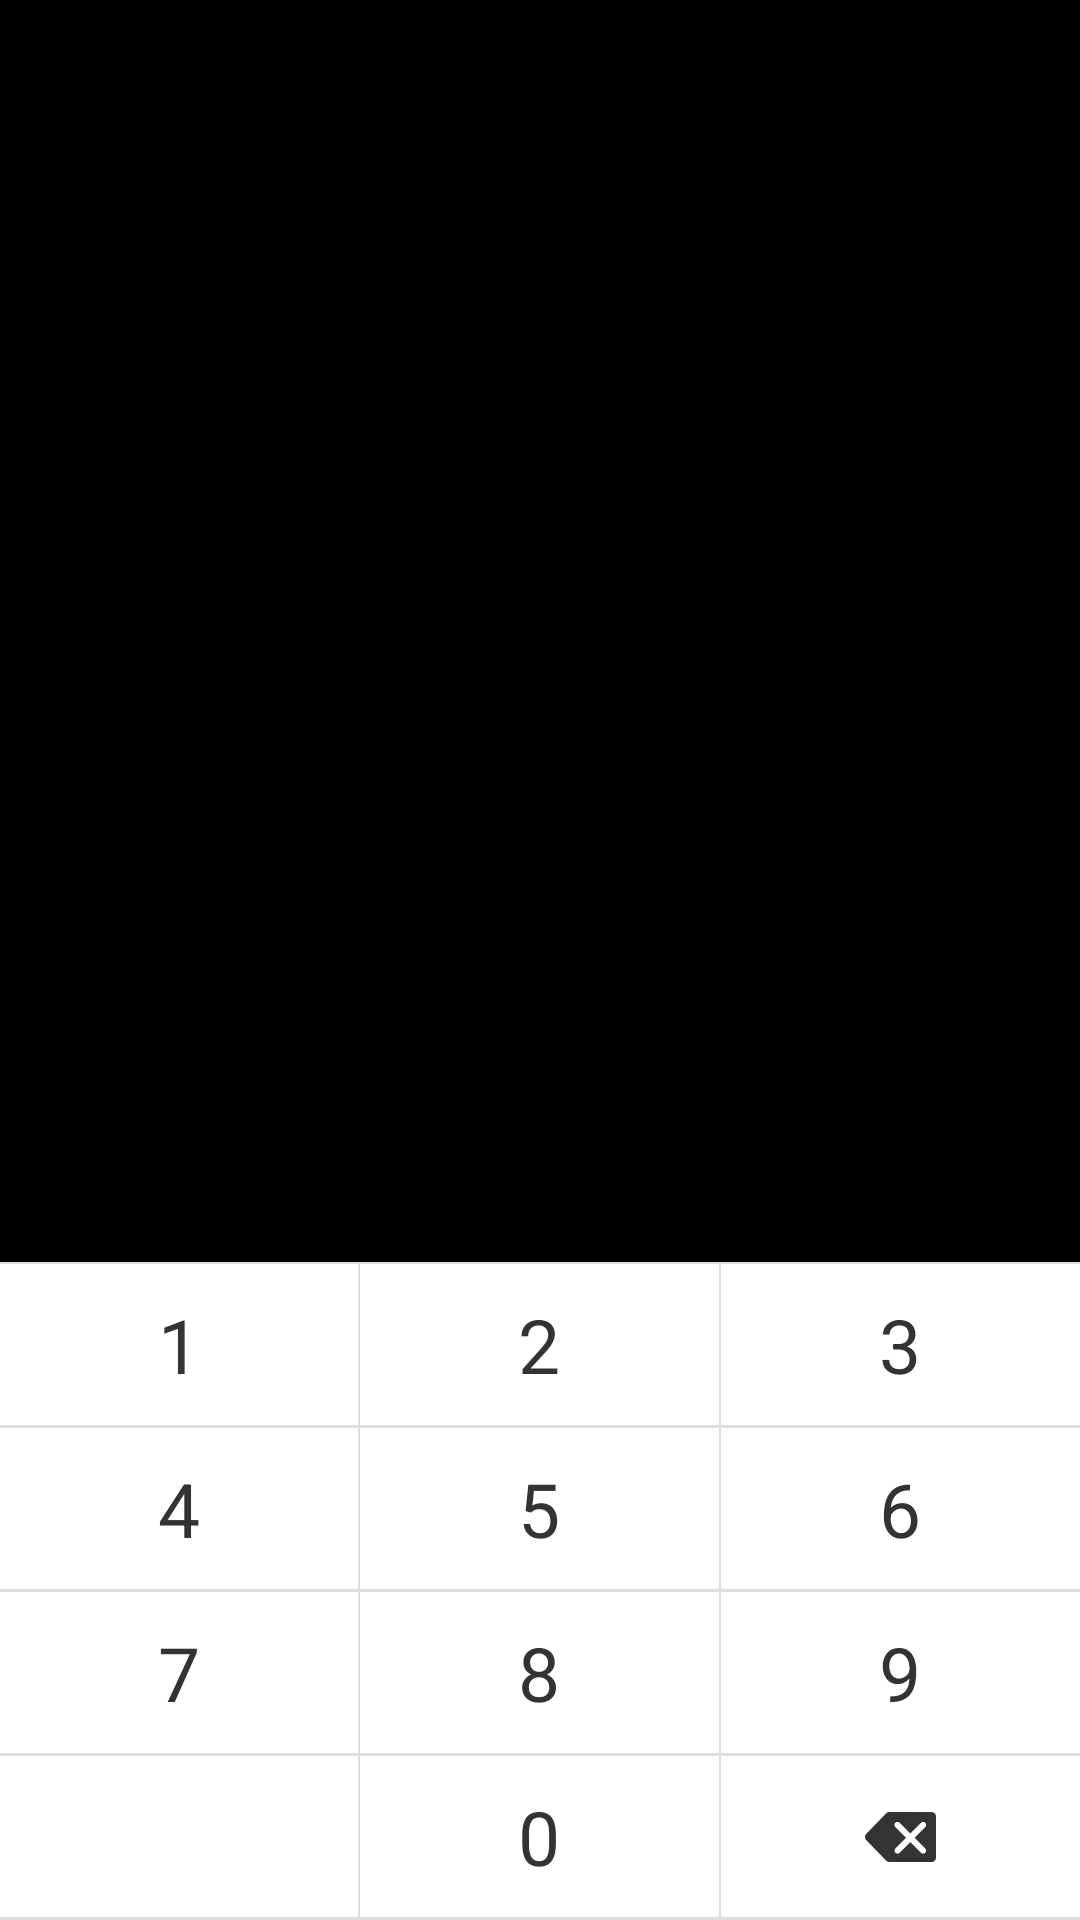

Icon bounding boxes for this 1080*1920 phone screenshot, format [x1,y1,x2,y2]:
delete: [865,1812,936,1862]
